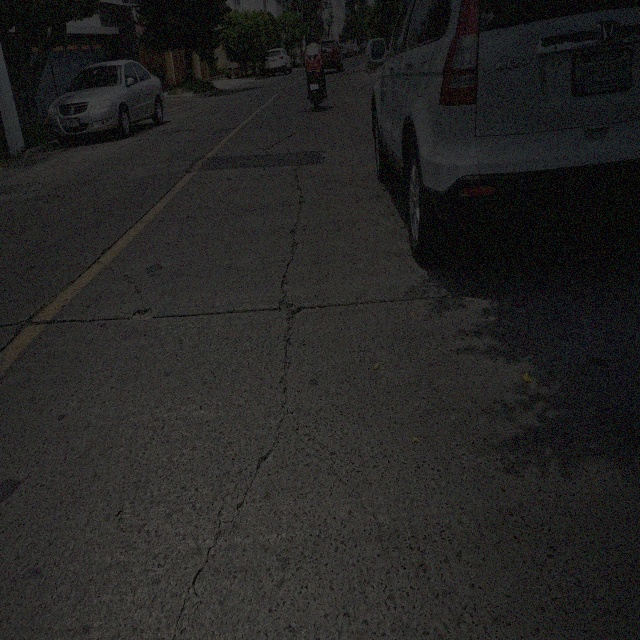pothole: (277, 289, 302, 329), (132, 306, 156, 324)
